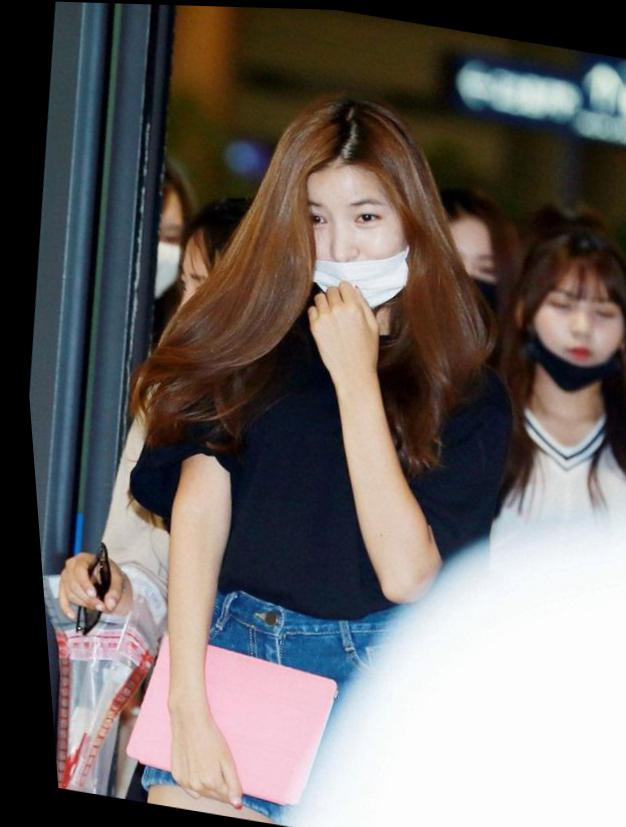NONE: (516, 271, 624, 388)
WRONG: (281, 177, 417, 307)
